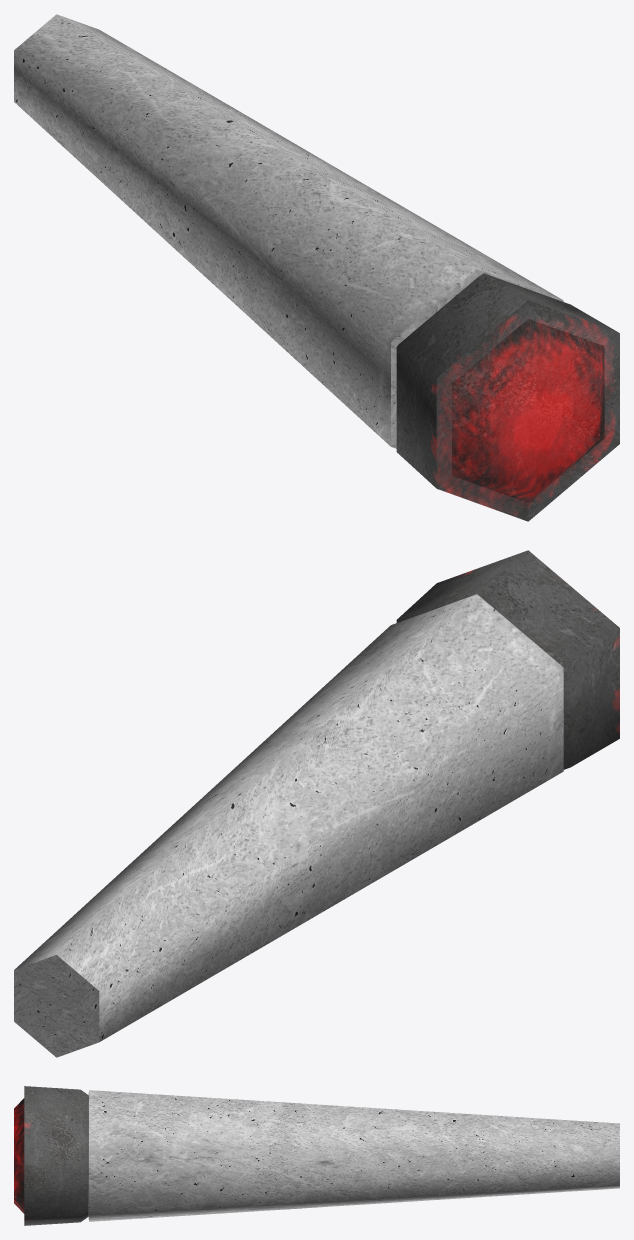
File: Petou.fbx
3 renders of one model, top to bottom at view 1: azimuth 30°, elevation 25°; view 2: azimuth 150°, elevation 25°; view 3: azimuth 270°, elevation 25°, orthographic. The views are drawn at different scales.
Parts seen in each view (by area): view 1: Petou; view 2: Petou; view 3: Petou.
Boxes of the visible parts, x1=… form: Petou: x1=14, y1=14, x2=619, y2=521; Petou: x1=14, y1=550, x2=619, y2=1057; Petou: x1=14, y1=1086, x2=619, y2=1225.
Bounding box in the file's own units: 8.76 × 39.72 × 10.11.
Materials: 1 (1 with a texture image).
